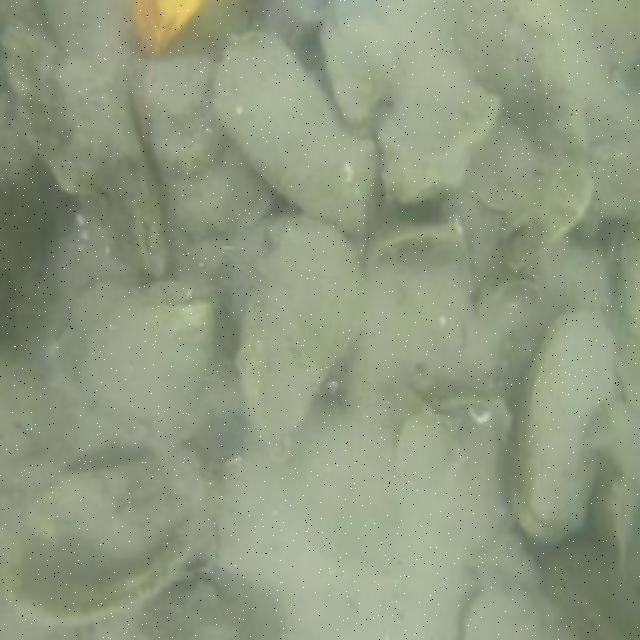Oyster-Closed: (210, 32, 374, 234), (240, 216, 360, 455), (142, 57, 265, 236), (84, 297, 217, 449), (521, 311, 615, 520), (379, 54, 502, 203), (319, 0, 460, 127)
Oyster-Open: (0, 447, 218, 631)
